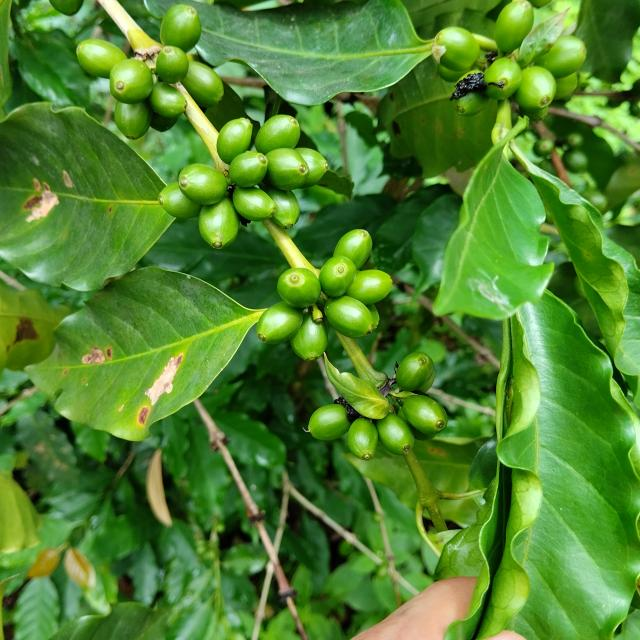green: (198, 197, 239, 249), (324, 295, 373, 338), (495, 0, 535, 52), (178, 163, 228, 204), (181, 60, 224, 107), (160, 3, 201, 52), (75, 38, 126, 77), (257, 301, 303, 344), (109, 58, 152, 103), (515, 65, 557, 110), (402, 395, 448, 436), (290, 312, 328, 361), (265, 148, 309, 190), (254, 114, 300, 154), (277, 268, 321, 308), (261, 185, 300, 229), (216, 117, 252, 164), (345, 270, 393, 305), (485, 56, 523, 99), (157, 182, 202, 218), (333, 229, 373, 269), (377, 414, 415, 456), (114, 99, 153, 139), (308, 405, 351, 441), (232, 186, 276, 221), (396, 352, 434, 392), (228, 151, 268, 187), (147, 81, 187, 117), (295, 147, 329, 188), (348, 418, 379, 461), (155, 45, 188, 83)
